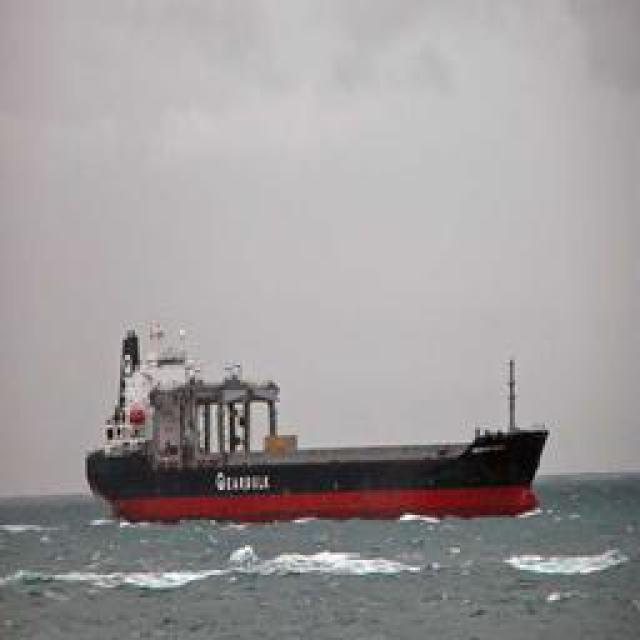Ship: (88, 321, 563, 531)
